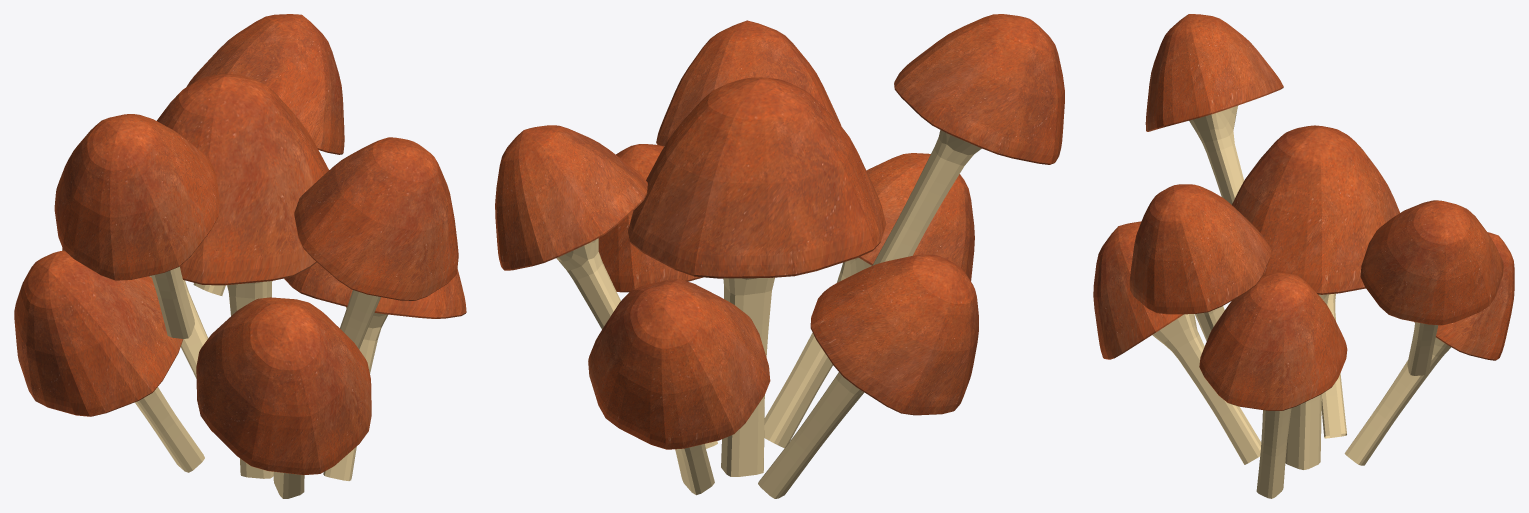
Rendered from Mushroom.fbx.
3 views of the same model, side by side, from view 1: azimuth 30°, elevation 25°; view 2: azimuth 150°, elevation 25°; view 3: azimuth 270°, elevation 25° (orthographic). The views are drawn at different scales.
Visible parts, largest first — view 1: Mushroom; view 2: Mushroom; view 3: Mushroom.
Boxes of the visible parts, left/top/right/bottom form: Mushroom: left=14, top=14, right=466, bottom=498; Mushroom: left=495, top=14, right=1064, bottom=498; Mushroom: left=1093, top=14, right=1514, bottom=498.
Size of the model in its own units: 3.81 by 3.91 by 4.
Materials: 1 (1 with a texture image).
